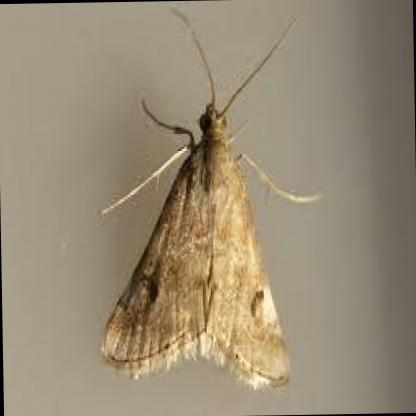Hellula undalis: (86, 8, 332, 394)
